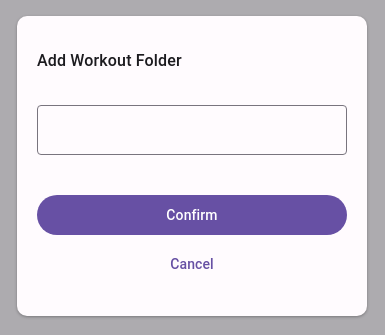
AddWorkoutFolderModal › displays an error message when pressing add button and input is invalid
Step 1. Click the button with test id "add-button" → click(192, 215), box left=37, top=195, right=347, bottom=235
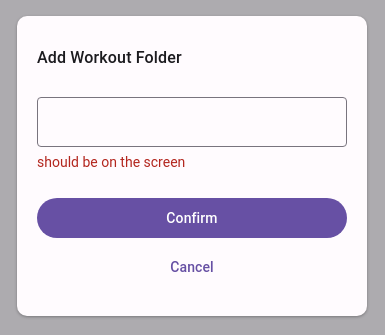
Expected: the text "should be on the screen" is shown, left=37, top=154, right=185, bottom=170
